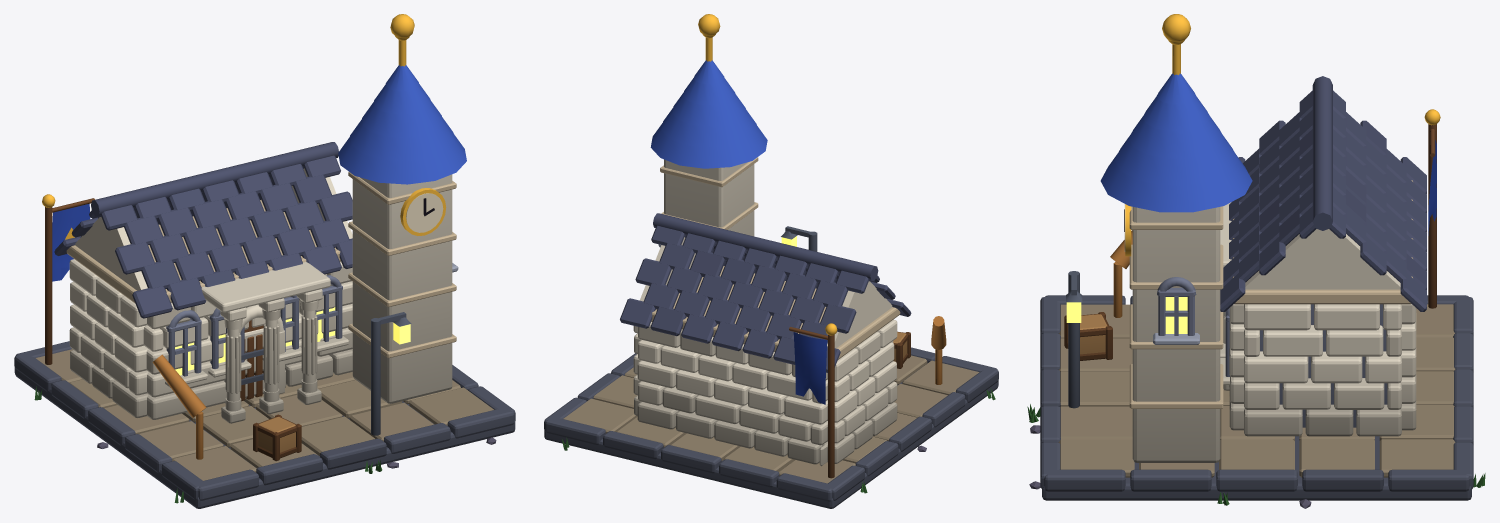
Rendered from academy.glb.
The picture shows the model from 3 angles, left to right: view 1: azimuth 30°, elevation 25°; view 2: azimuth 150°, elevation 25°; view 3: azimuth 270°, elevation 25°; orthographic projection. The views are drawn at different scales.
Parts seen in each view (by area): view 1: t0_marble, t0_roof_slate, t0_stone_warm, t0_stone_dark, t0_roof_blue, t0_wood_dark, t2_wood_dark, t1_iron, t0_bronze, t2_cloth_blue, t0_cloth_cream, t0_gold (+1 smaller); view 2: t0_marble, t0_roof_slate, t0_stone_dark, t0_stone_warm, t0_roof_blue, t2_cloth_blue, t2_wood_dark, t0_bronze; view 3: t0_marble, t0_stone_warm, t0_roof_slate, t0_stone_dark, t0_roof_blue, t1_iron, t2_wood_dark, t0_wood_dark, t0_bronze, t0_wood_light, t3_gold, t0_gold (+1 smaller).
Part boxes in pixels (bbox=[...]): t0_marble: bbox=[69, 168, 452, 423]; t0_roof_slate: bbox=[54, 142, 352, 318]; t0_stone_warm: bbox=[36, 172, 493, 480]; t0_stone_dark: bbox=[14, 275, 515, 508]; t0_roof_blue: bbox=[338, 65, 466, 184]; t0_wood_dark: bbox=[240, 320, 301, 461]; t2_wood_dark: bbox=[45, 198, 94, 364]; t1_iron: bbox=[371, 312, 411, 435]; t0_bronze: bbox=[152, 354, 206, 459]; t2_cloth_blue: bbox=[52, 204, 90, 281]; t0_cloth_cream: bbox=[406, 193, 443, 232]; t0_gold: bbox=[395, 36, 446, 235]; t0_marble: bbox=[633, 159, 897, 466]; t0_roof_slate: bbox=[620, 213, 911, 372]; t0_stone_dark: bbox=[544, 347, 998, 508]; t0_stone_warm: bbox=[563, 157, 979, 483]; t0_roof_blue: bbox=[650, 60, 767, 168]; t2_cloth_blue: bbox=[793, 332, 827, 404]; t2_wood_dark: bbox=[789, 327, 834, 478]; t0_bronze: bbox=[931, 316, 946, 384]; t0_marble: bbox=[1132, 202, 1416, 462]; t0_stone_warm: bbox=[1058, 180, 1455, 477]; t0_roof_slate: bbox=[1220, 76, 1426, 311]; t0_stone_dark: bbox=[1040, 277, 1473, 500]; t0_roof_blue: bbox=[1100, 73, 1252, 212]; t1_iron: bbox=[1066, 271, 1082, 408]; t2_wood_dark: bbox=[1428, 124, 1436, 308]; t0_wood_dark: bbox=[1064, 312, 1112, 360]; t0_bronze: bbox=[1110, 230, 1132, 317]; t0_wood_light: bbox=[1080, 314, 1107, 354]; t3_gold: bbox=[1162, 14, 1190, 41]; t0_gold: bbox=[1125, 39, 1184, 256].
Size of the model in its own units: 3.12 by 3.45 by 3.13.
